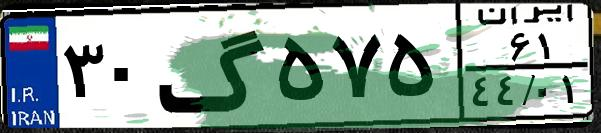0: (110, 28, 156, 98), (535, 70, 560, 125)
1: (560, 70, 590, 125), (537, 27, 568, 80)
3: (57, 26, 110, 100)
4: (470, 70, 495, 125), (495, 70, 520, 125)
5: (270, 28, 330, 110), (385, 28, 445, 110)
6: (508, 27, 537, 80)
7: (330, 28, 385, 110)
گ: (156, 12, 270, 120)
